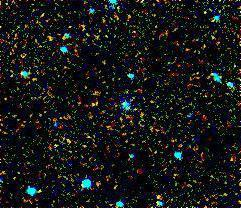star: (143, 181, 173, 208)
